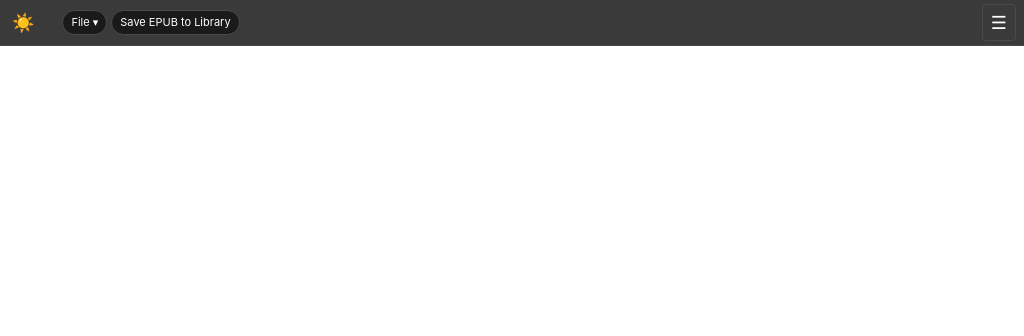
shows the running release and calls the same update action used by Library
What coordinates should you click on to do the following:
click the button titled "Menu"
I would click on:
 (999, 22)
Its box is [982,4,1016,41].
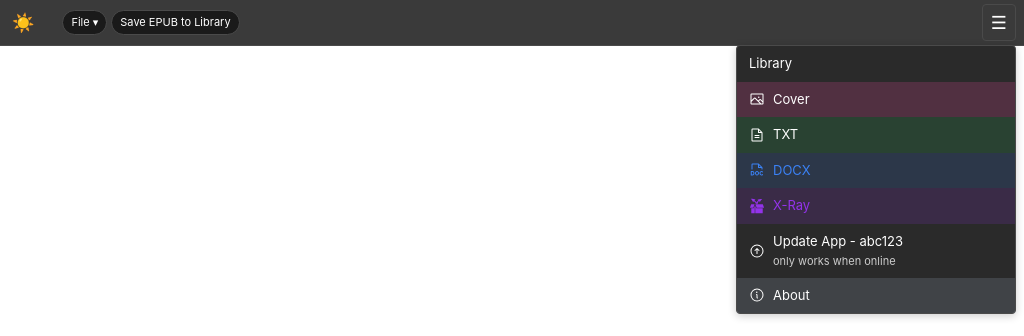
What coordinates should you click on to do the following:
click the button "Update App - abc123 only works when online"
I would click on:
 (876, 250)
Its box is [737,224,1015,278].
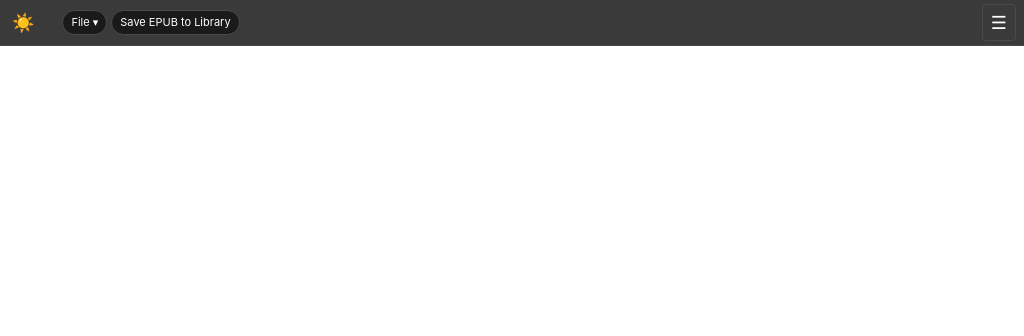
Expected: the button "Update App - abc123" is gone
